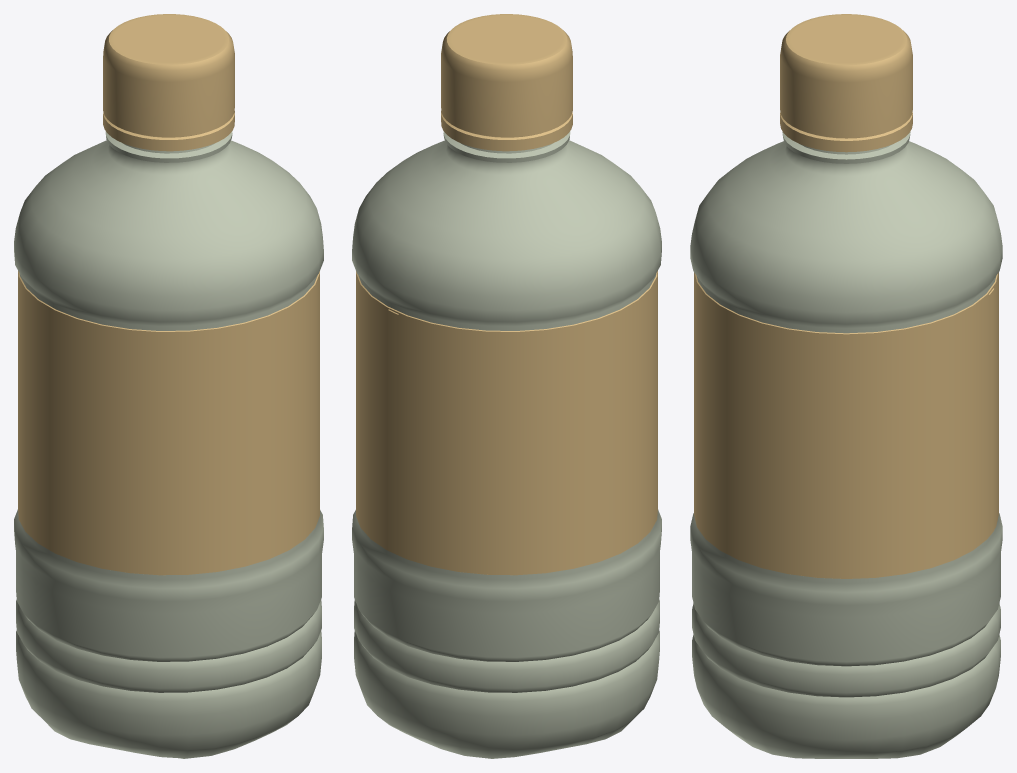
File: item_almond.glb
3 views of the same model, side by side, from view 1: azimuth 30°, elevation 25°; view 2: azimuth 150°, elevation 25°; view 3: azimuth 270°, elevation 25° (orthographic).
Visible parts, largest first — view 1: mandelwasser; view 2: mandelwasser; view 3: mandelwasser.
Part boxes in pixels (bbox=[...]): mandelwasser: bbox=[14, 14, 323, 758]; mandelwasser: bbox=[352, 14, 661, 758]; mandelwasser: bbox=[690, 14, 1002, 758].
Bounding box in the file's own units: 0.1092 × 0.262 × 0.1092.
